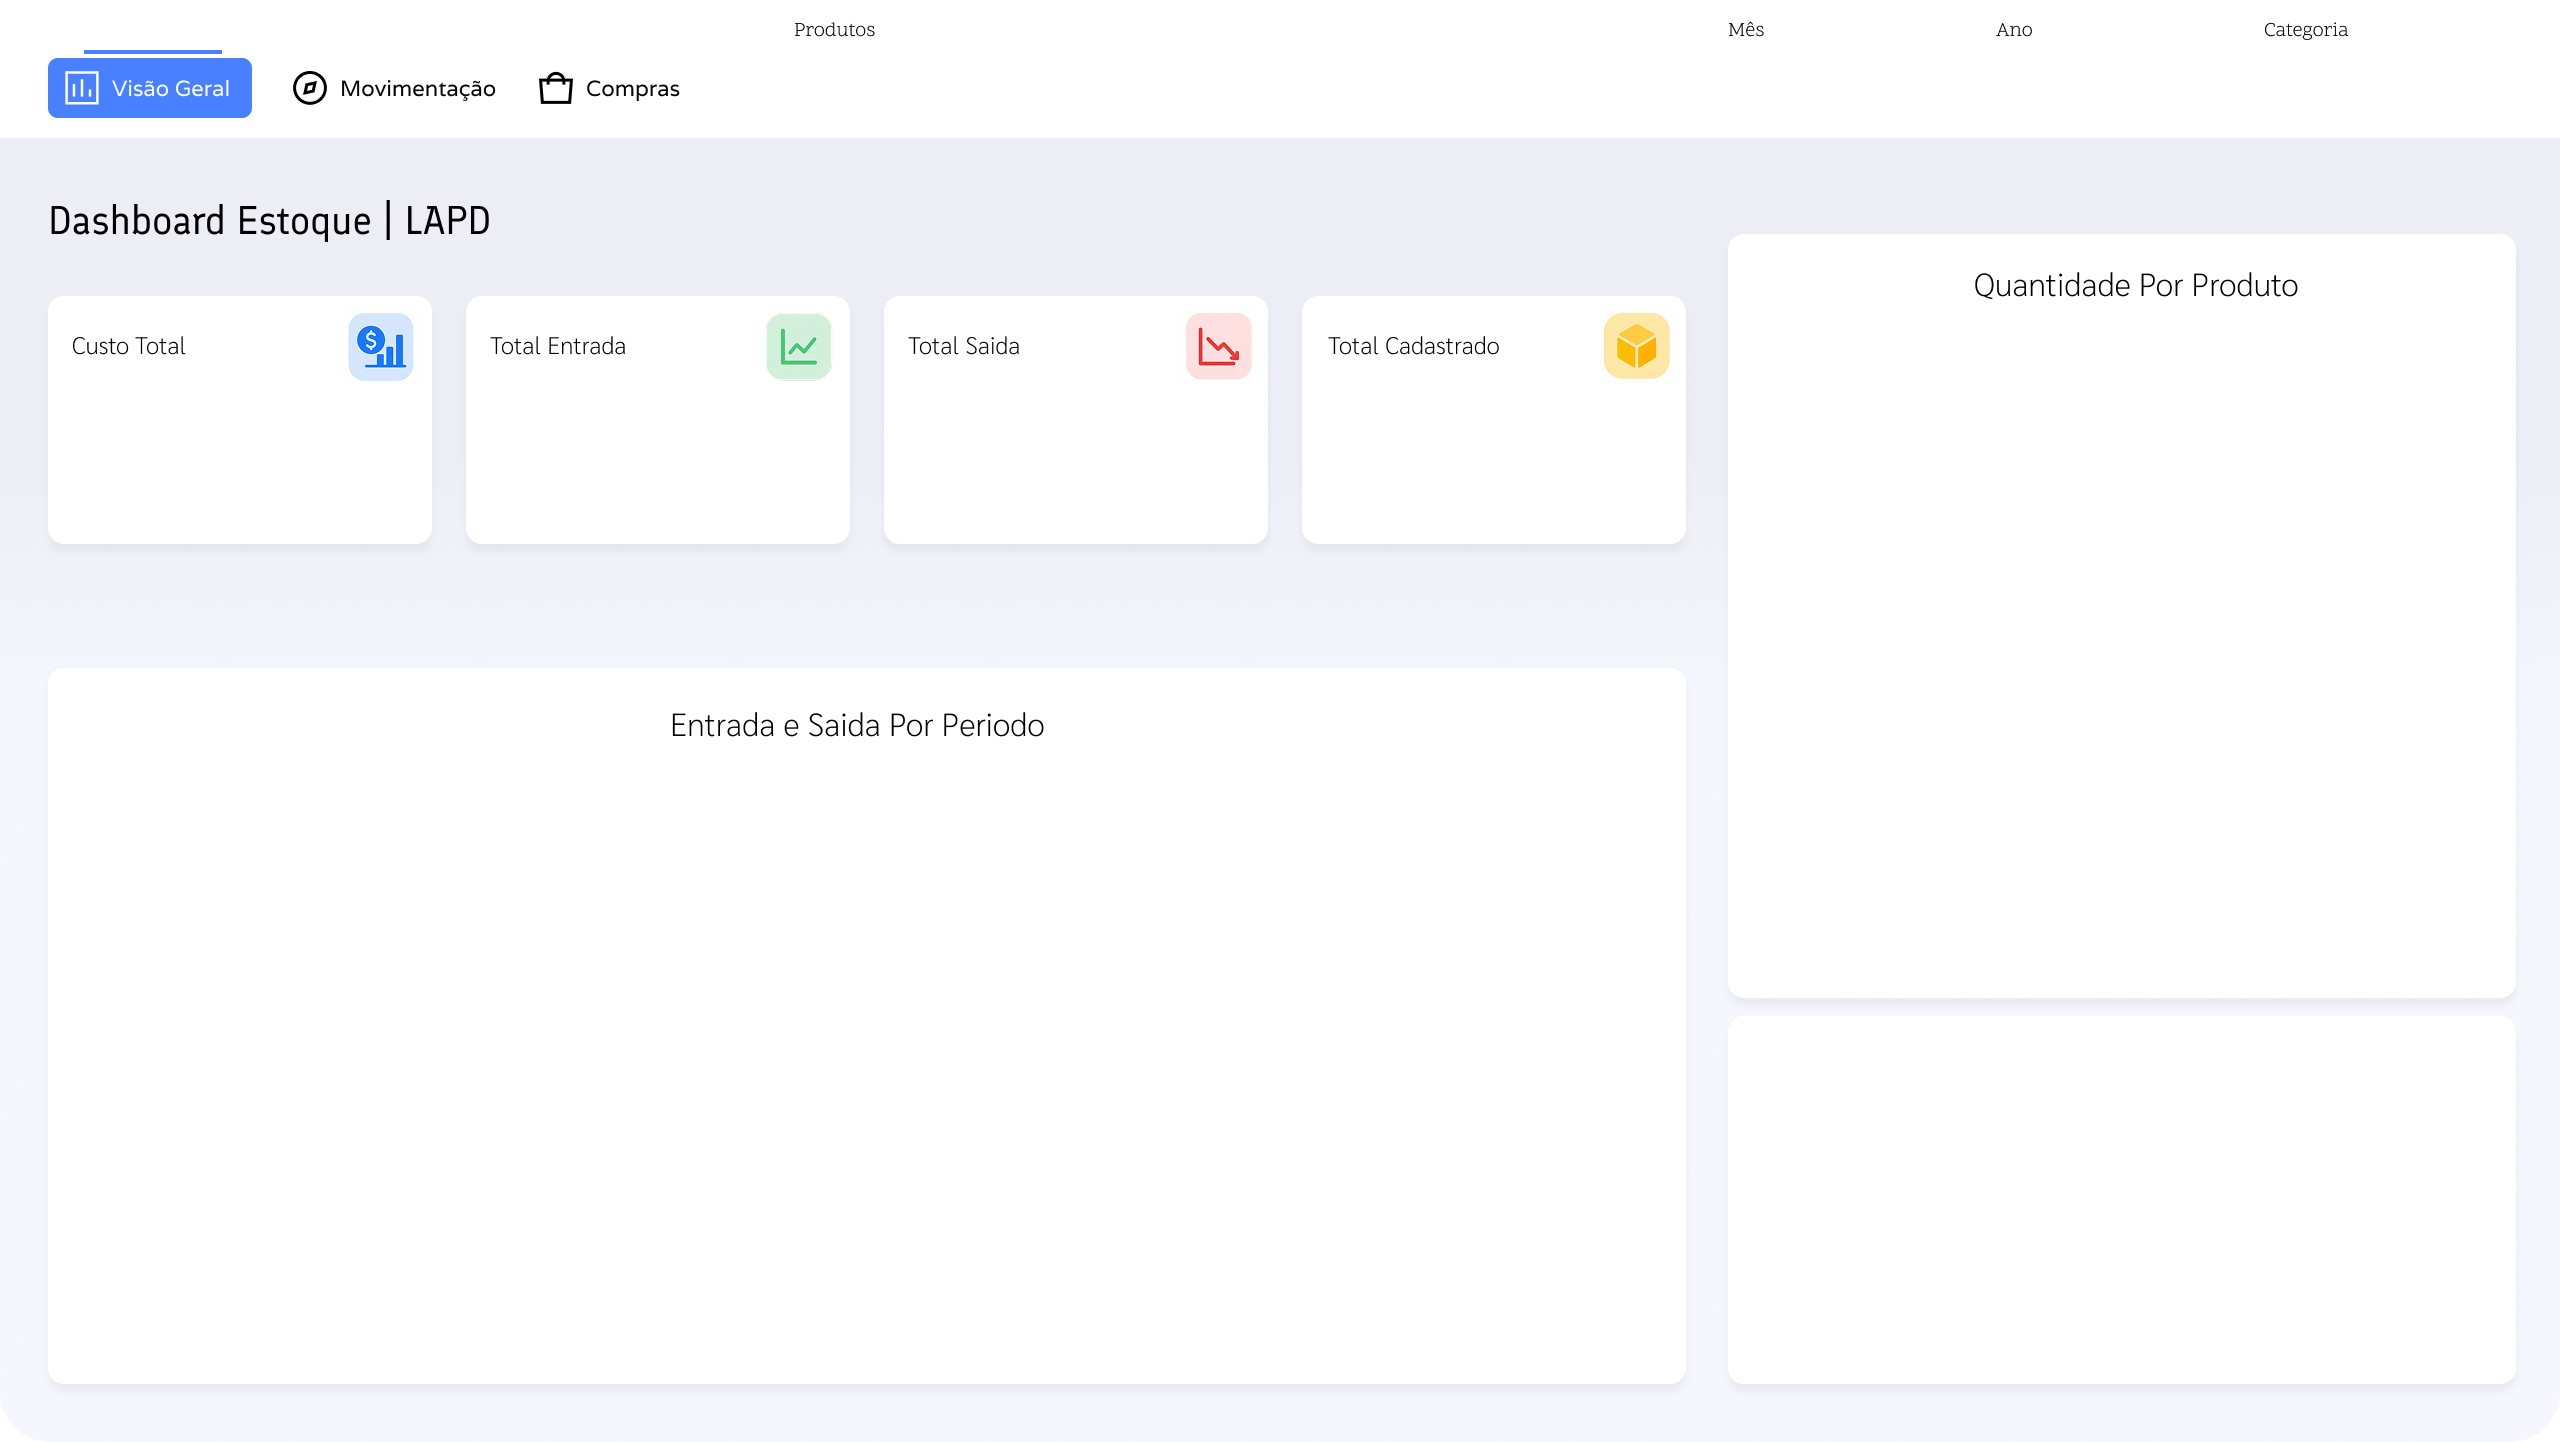

What the dashboard file says about the page in this screenshot:
{"tool":"powerbi","page":{"name":"Visão Geral","canvas":[1280,720],"ordinal":0},"visuals":[{"type":"cardVisual","fields":{"Data":["Medidas.Produtos Cadastrados"]},"box":[650.8,150.6,189.6,116.8],"z":0},{"type":"cardVisual","fields":{"Data":["Medidas.Total Entrada"]},"box":[234.4,172.2,193.3,58.9],"z":1000},{"type":"cardVisual","fields":{"Data":["Medidas.Total Saídas"]},"box":[441.1,172.2,198.9,58.9],"z":2000},{"type":"slicer","fields":{"Values":["dCalendario.NomeMes"]},"box":[862.2,20,124.4,41.1],"z":3000},{"type":"lineStackedColumnComboChart","title":"Entrada e Saida Por Periodo","fields":{"Y":["Medidas.Total Entrada"],"Y2":["Medidas.Total Saídas"],"Category":["dCalendario.NomeMes"]},"box":[24.6,359.7,805.5,332],"z":4000},{"type":"cardVisual","fields":{"Data":["Medidas.Valor Custo"]},"box":[24.4,172.2,194.4,58.9],"z":5000},{"type":"clusteredBarChart","title":"Quantidade Por Produto","fields":{"Category":["fProduto.Produto"],"Y":["Sum(fProduto.Estoque atual)"]},"box":[862.7,135.2,406.6,358.9],"z":6000},{"type":"hundredPercentStackedBarChart","title":"Comparação Entrada e Saída","fields":{"Y":["Medidas.Total Entrada","Medidas.Total Saídas"]},"box":[862.7,500.9,399.8,190.6],"z":7000},{"type":"actionButton","box":[161.1,20,120,28.9],"z":8000},{"type":"slicer","fields":{"Values":["dCalendario.Ano"]},"box":[996.7,20,124.4,41.1],"z":9000},{"type":"slicer","fields":{"Values":["fProduto.Categoria"]},"box":[1131.1,20,124.4,41.1],"z":10000},{"type":"cardVisual","fields":{"Data":["Medidas.Card Comparação Saídas"]},"box":[428.9,231.1,224.4,44.4],"z":11000},{"type":"cardVisual","fields":{"Data":["Medidas.Card Mês Entrada Anterior"]},"box":[218.9,231.1,224.4,44.4],"z":12000},{"type":"cardVisual","fields":{"Data":["Medidas.Card Mês Custo Anterior"]},"box":[10,231.1,224.4,44.4],"z":13000},{"type":"slicer","fields":{"Values":["fProduto.Produto"]},"box":[391,20.4,438.7,40.9],"z":14000}]}

Visuals, with their boxes on the page's 1280x720 design canvas (x1, y1, x2, y2). These are canvas units, not pixel positions in the 2560x1442 screenshot, which may show the page scaled, cropped or inside an application window:
cardVisual - Medidas.Produtos Cadastrados: 651, 151, 840, 267
cardVisual - Medidas.Total Entrada: 234, 172, 428, 231
cardVisual - Medidas.Total Saídas: 441, 172, 640, 231
slicer - dCalendario.NomeMes: 862, 20, 987, 61
"Entrada e Saida Por Periodo" lineStackedColumnComboChart: 25, 360, 830, 692
cardVisual - Medidas.Valor Custo: 24, 172, 219, 231
"Quantidade Por Produto" clusteredBarChart: 863, 135, 1269, 494
"Comparação Entrada e Saída" hundredPercentStackedBarChart: 863, 501, 1262, 692
actionButton: 161, 20, 281, 49
slicer - dCalendario.Ano: 997, 20, 1121, 61
slicer - fProduto.Categoria: 1131, 20, 1256, 61
cardVisual - Medidas.Card Comparação Saídas: 429, 231, 653, 276
cardVisual - Medidas.Card Mês Entrada Anterior: 219, 231, 443, 276
cardVisual - Medidas.Card Mês Custo Anterior: 10, 231, 234, 276
slicer - fProduto.Produto: 391, 20, 830, 61
